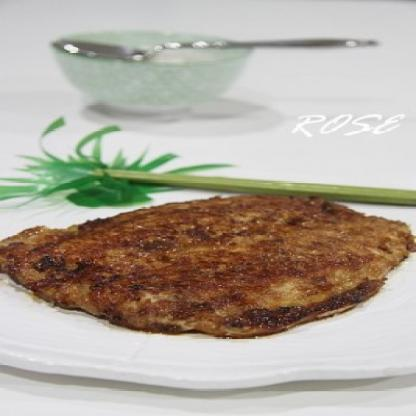Peixe: (0, 198, 415, 338)
